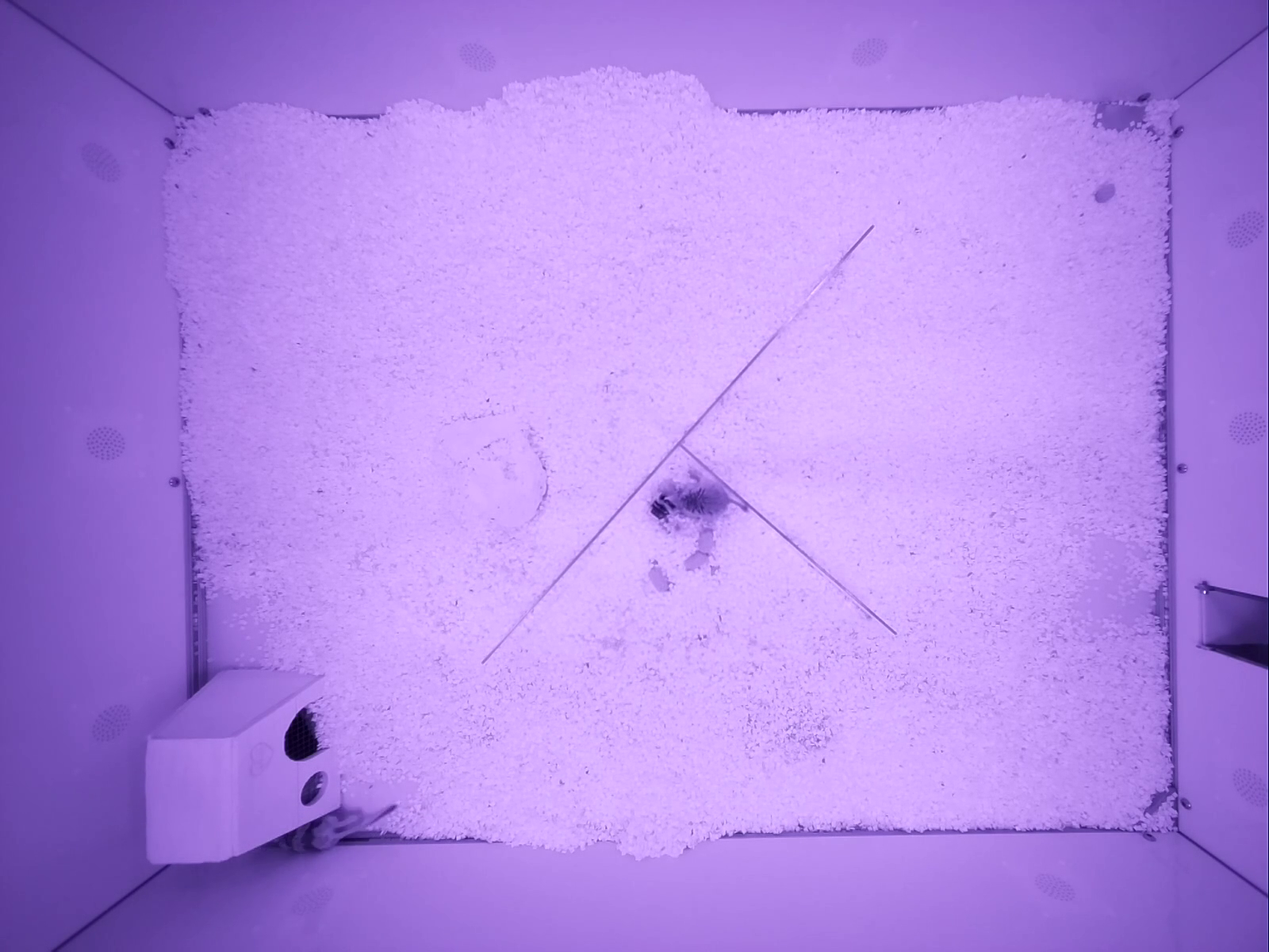adult_back: (271, 804, 394, 852), (650, 483, 748, 523)
